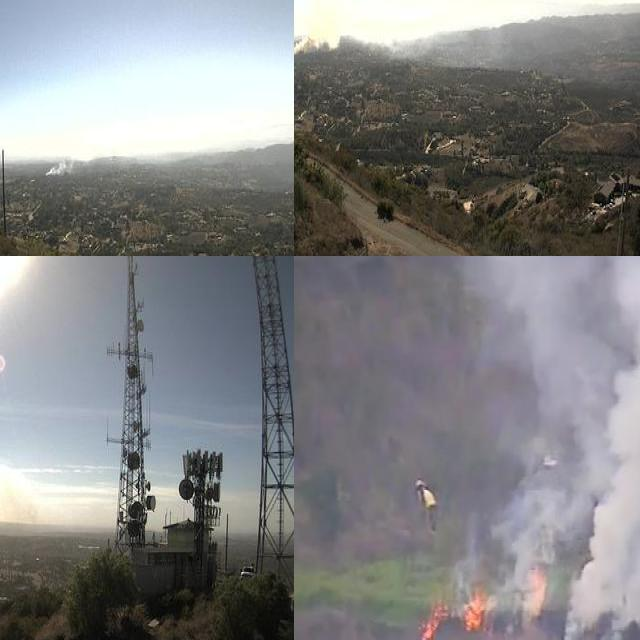fire: (522, 558, 550, 616), (417, 599, 447, 640), (462, 588, 486, 630)
smoke: (449, 256, 640, 640), (294, 21, 448, 60), (44, 141, 89, 175)
